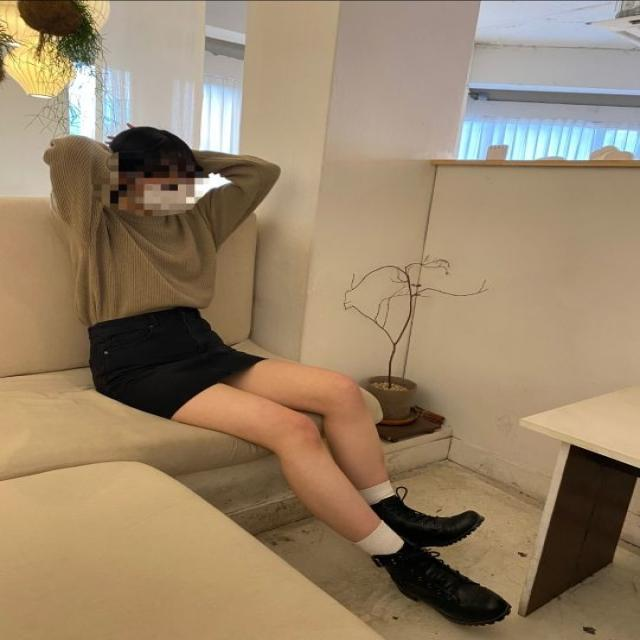skirt: (90, 306, 262, 424)
sweater: (46, 132, 281, 322)
